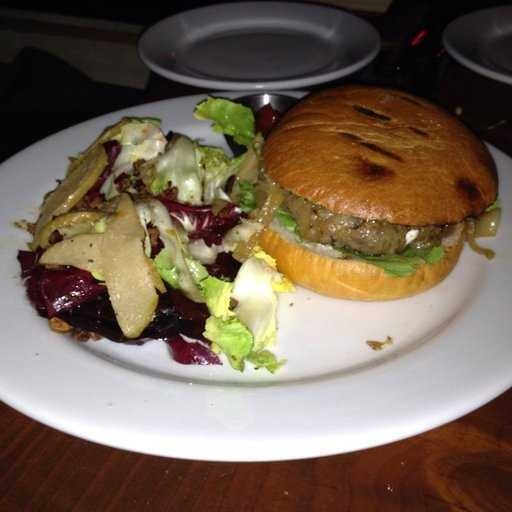hamburger: (260, 73, 481, 303)
